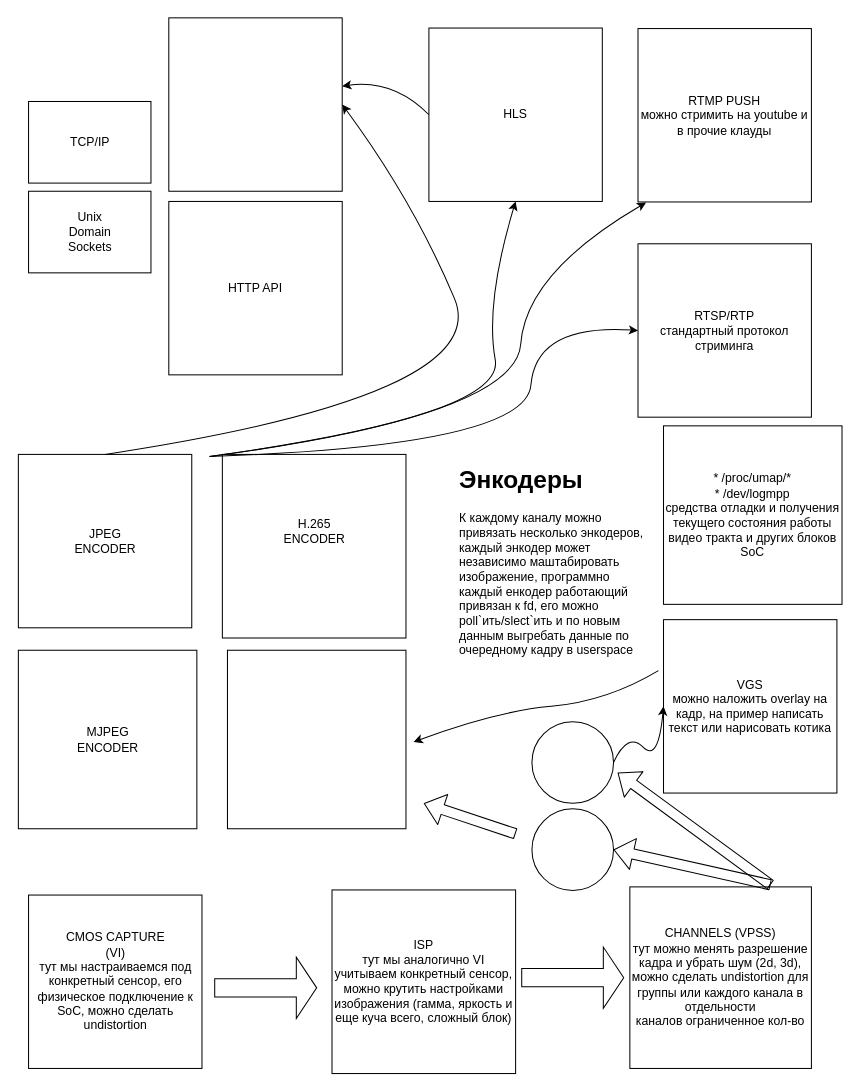
Image size: 860x1091. Some labels were removed from this diagram. The shapes that lost their labels are listed below. From the top down, each one's box as (x1, y1, x2, y2) in pixels, then its label:
(168, 17, 342, 191): HTTP DATA SERVING
(226, 649, 406, 829): H.264 ENCODER
(531, 721, 614, 803): канал N
(531, 808, 614, 890): канал 1
